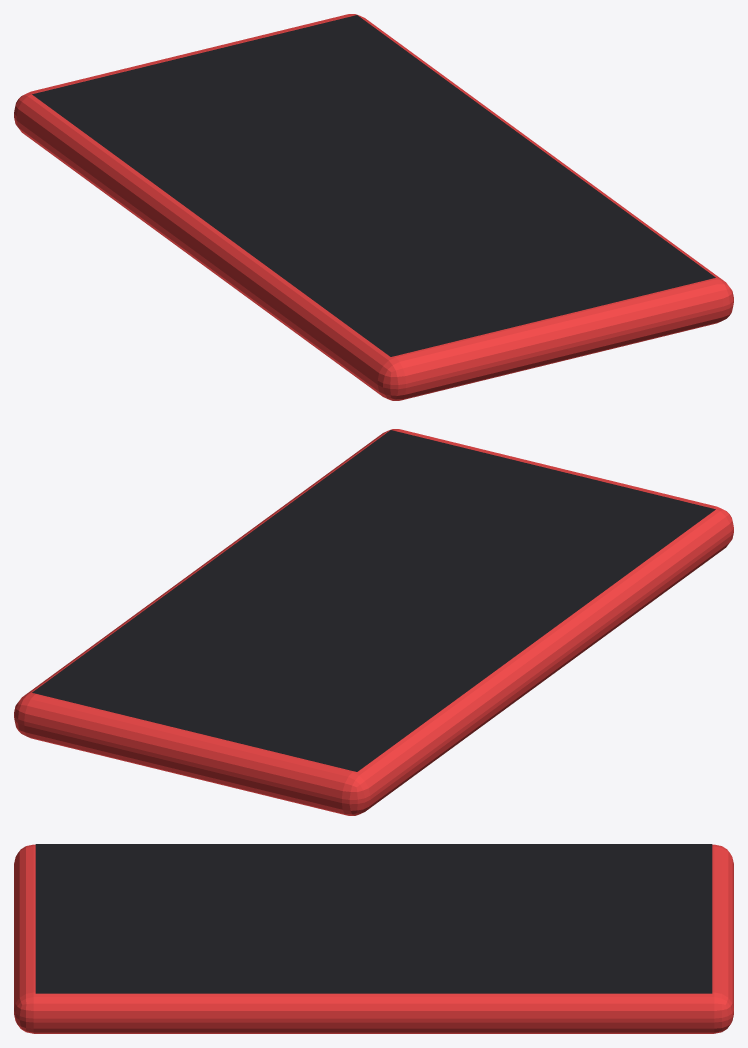
The model's file is Phone_987.glb.
The picture shows the model from 3 angles, top to bottom: view 1: azimuth 30°, elevation 25°; view 2: azimuth 150°, elevation 25°; view 3: azimuth 270°, elevation 25°; orthographic projection. The views are drawn at different scales.
Parts seen in each view (by area): view 1: Phone_Screen, Phone_Body; view 2: Phone_Screen, Phone_Body; view 3: Phone_Screen, Phone_Body.
Part boxes in pixels (bbox=[...]): Phone_Screen: bbox=[32, 15, 715, 356]; Phone_Body: bbox=[14, 14, 733, 400]; Phone_Screen: bbox=[32, 430, 715, 771]; Phone_Body: bbox=[14, 429, 733, 815]; Phone_Screen: bbox=[35, 844, 712, 993]; Phone_Body: bbox=[14, 844, 733, 1033].
Size of the model in its own units: 0.0794 by 0.0091 by 0.1485.
